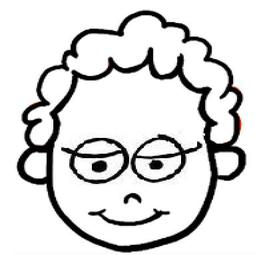ear: (7, 144, 54, 188), (206, 145, 250, 188)
eye: (129, 132, 203, 185), (58, 134, 130, 187)
mouth: (85, 206, 173, 229)
nose: (119, 191, 145, 203)
